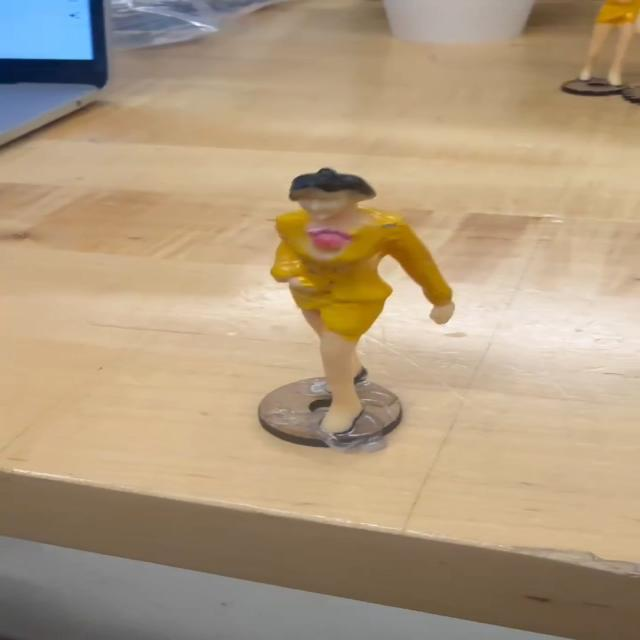Authorized: (251, 170, 460, 463)
